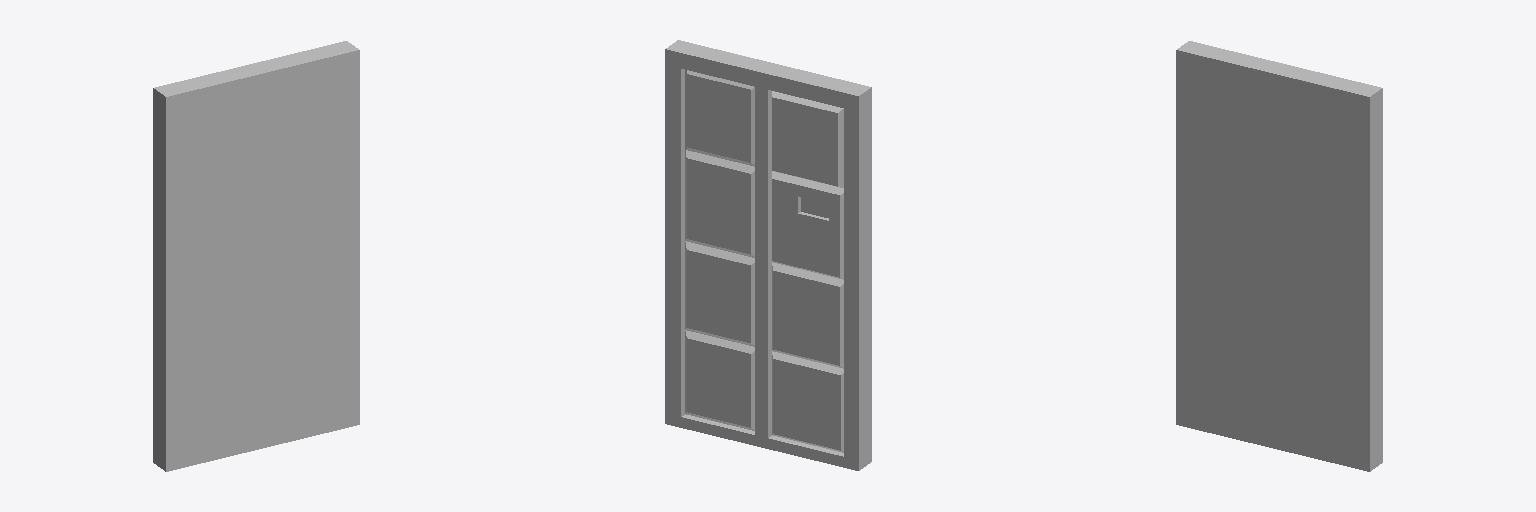
Rendered from door.obj.
3 views of the same model, side by side, from view 1: azimuth 30°, elevation 25°; view 2: azimuth 150°, elevation 25°; view 3: azimuth 330°, elevation 25° (orthographic).
Visible parts, largest first — view 1: pCube35; view 2: pCube35; view 3: pCube35.
Boxes of the visible parts, box(x1,y1,x2,y2) form: pCube35: box(153, 41, 359, 471); pCube35: box(665, 40, 871, 470); pCube35: box(1176, 41, 1382, 471).
Bounding box in the file's own units: 2.64 × 4.89 × 0.3251.